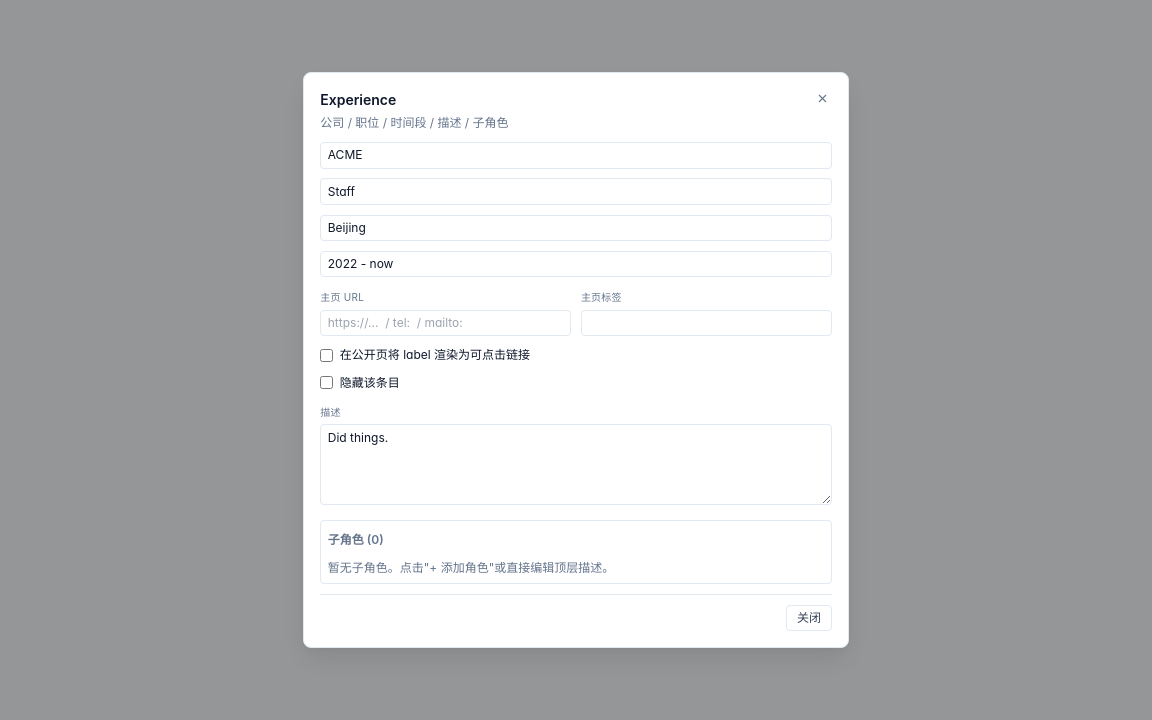
ExperienceDialog URL validation (AC-11, AC-11-revised) › rejects javascript: scheme on blur with toast
Type "javascript:alert(1)" into the field with test id "experience-website-url" at coordinates (446, 323), box [320, 310, 571, 336]
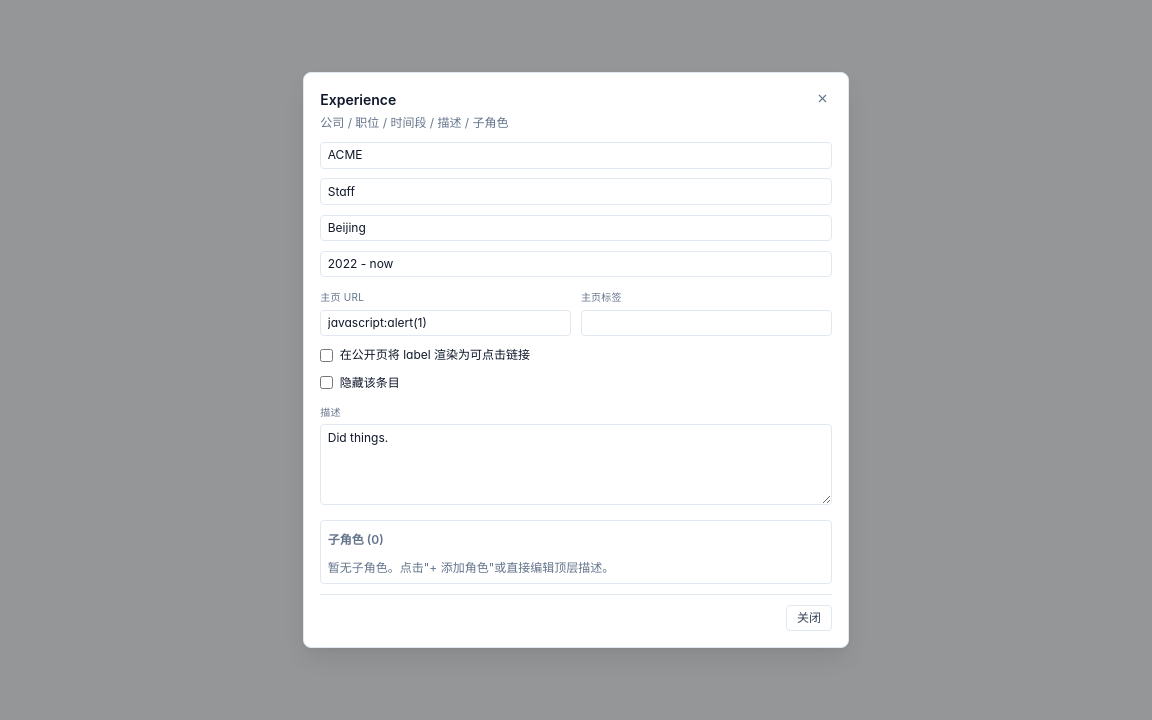
Leave the field with test id "experience-website-url", box [320, 310, 571, 336]
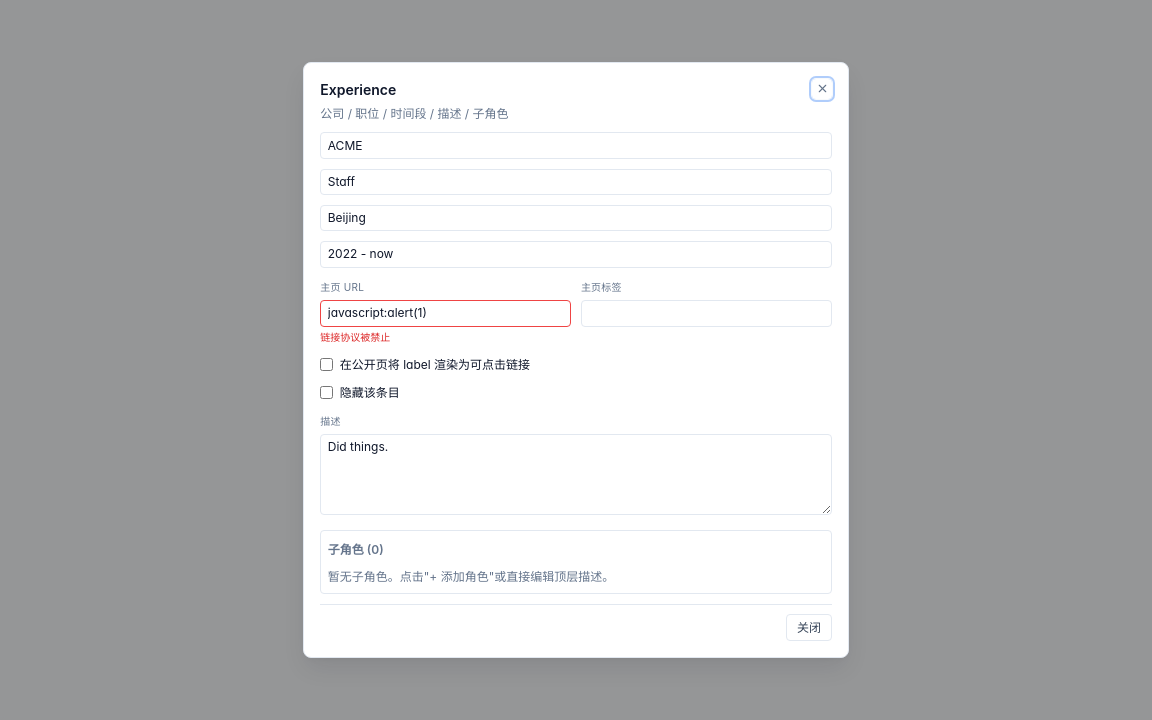
Now the message "链接协议被禁止" is shown, box [320, 331, 390, 343]
